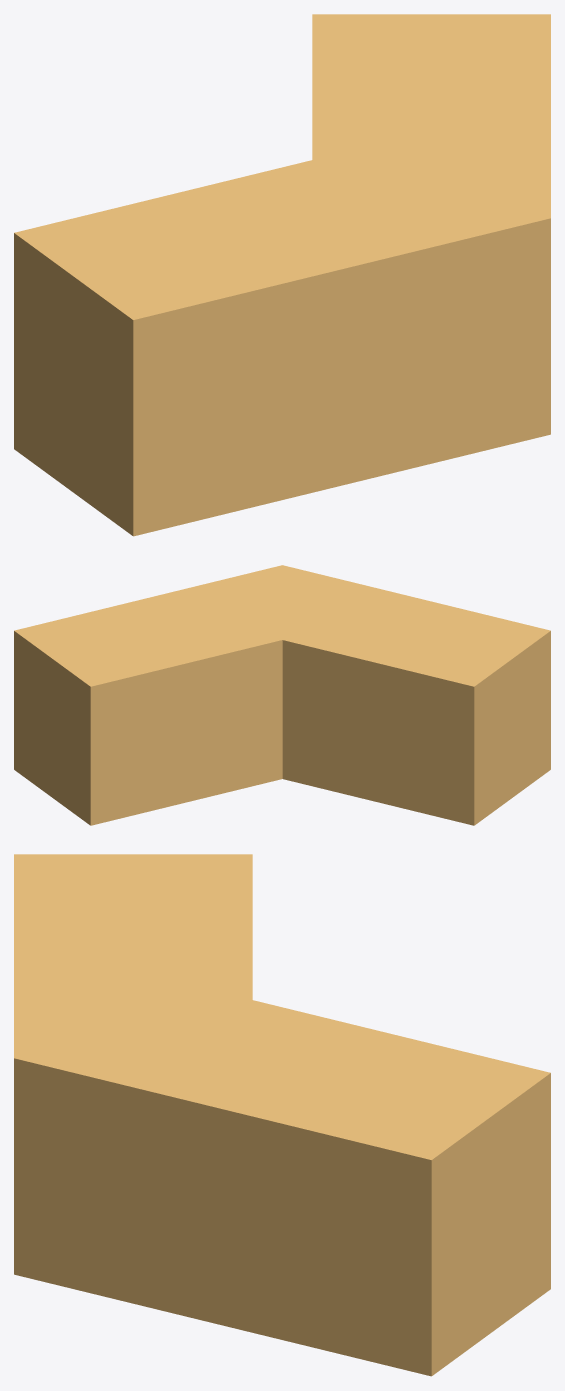
The picture shows the model from 3 angles, top to bottom: view 1: azimuth 30°, elevation 25°; view 2: azimuth 150°, elevation 25°; view 3: azimuth 270°, elevation 25°; orthographic projection. The views are drawn at different scales.
Parts seen in each view (by area): view 1: WoodenWallHalfCurved; view 2: WoodenWallHalfCurved; view 3: WoodenWallHalfCurved.
Part boxes in pixels (x1,y1,x2,y2): WoodenWallHalfCurved: [14, 14, 550, 536]; WoodenWallHalfCurved: [14, 565, 550, 825]; WoodenWallHalfCurved: [14, 854, 550, 1376].
Size of the model in its own units: 1.52 by 0.5 by 1.12.
1 material, 1 textured.
